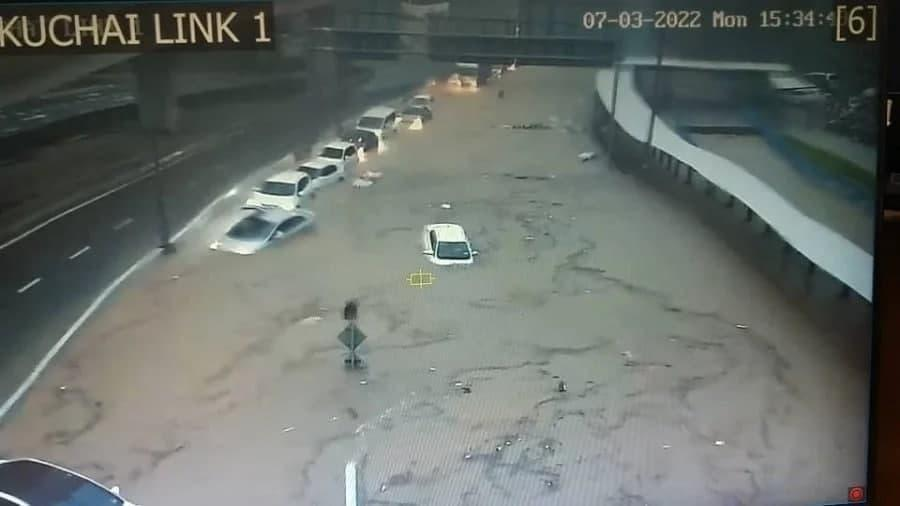water: (1, 62, 871, 503)
